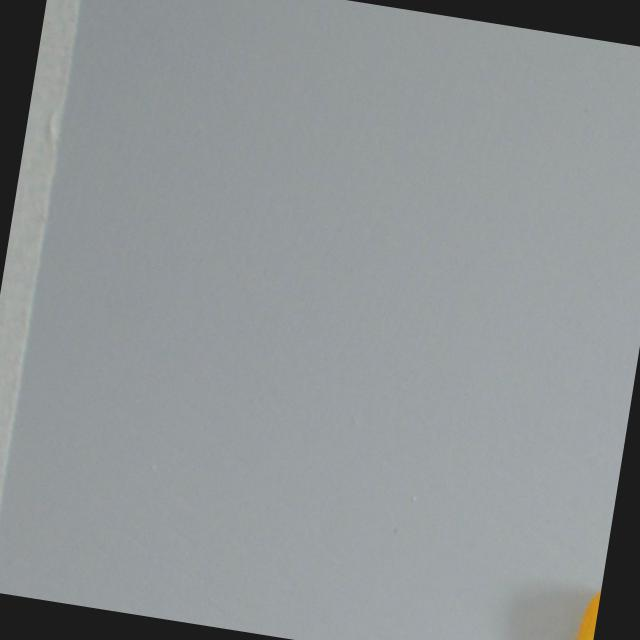dañado: (570, 578, 603, 640)
